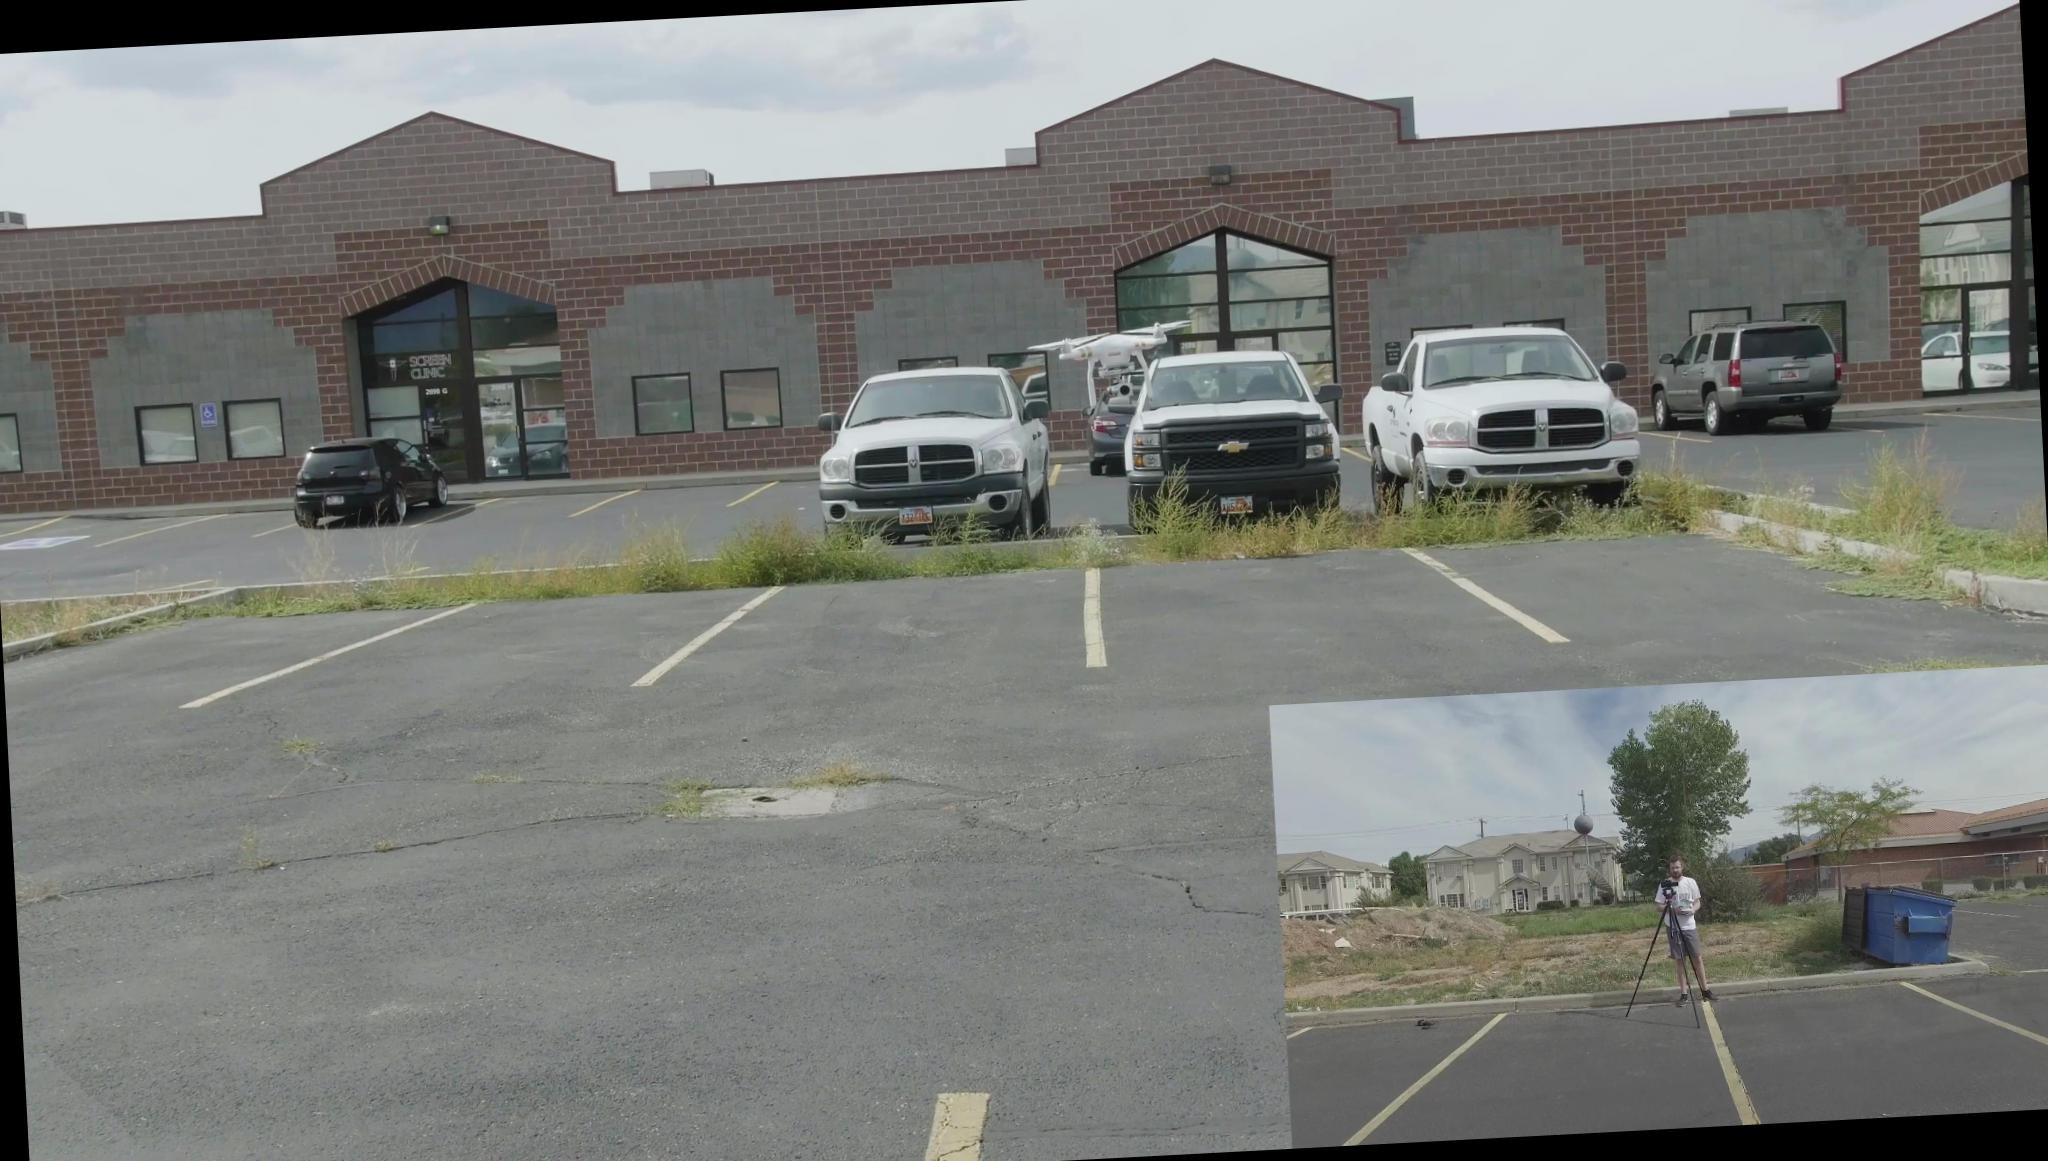drone: (1020, 310, 1197, 401)
